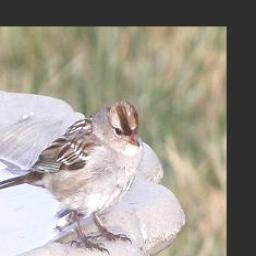Sparrow: (0, 99, 148, 256)
